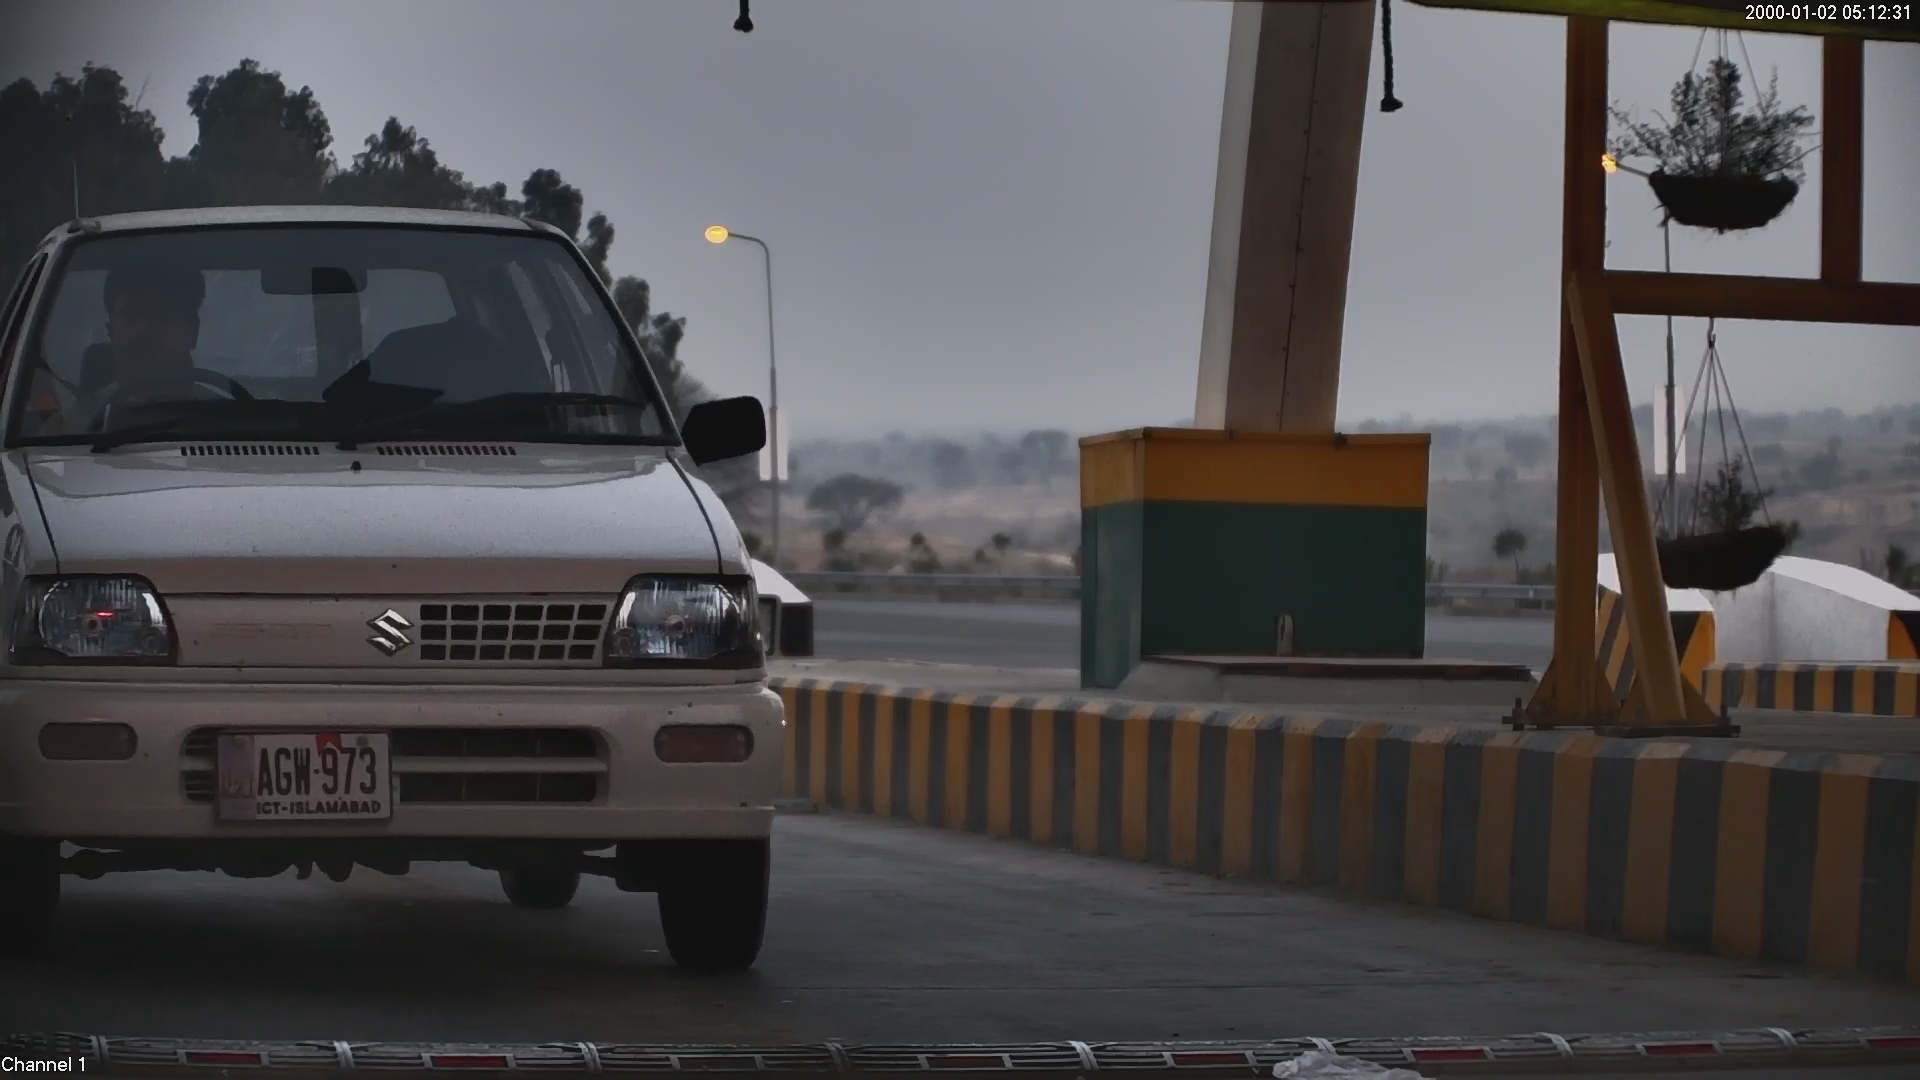Number_Plate: (205, 716, 403, 832)
